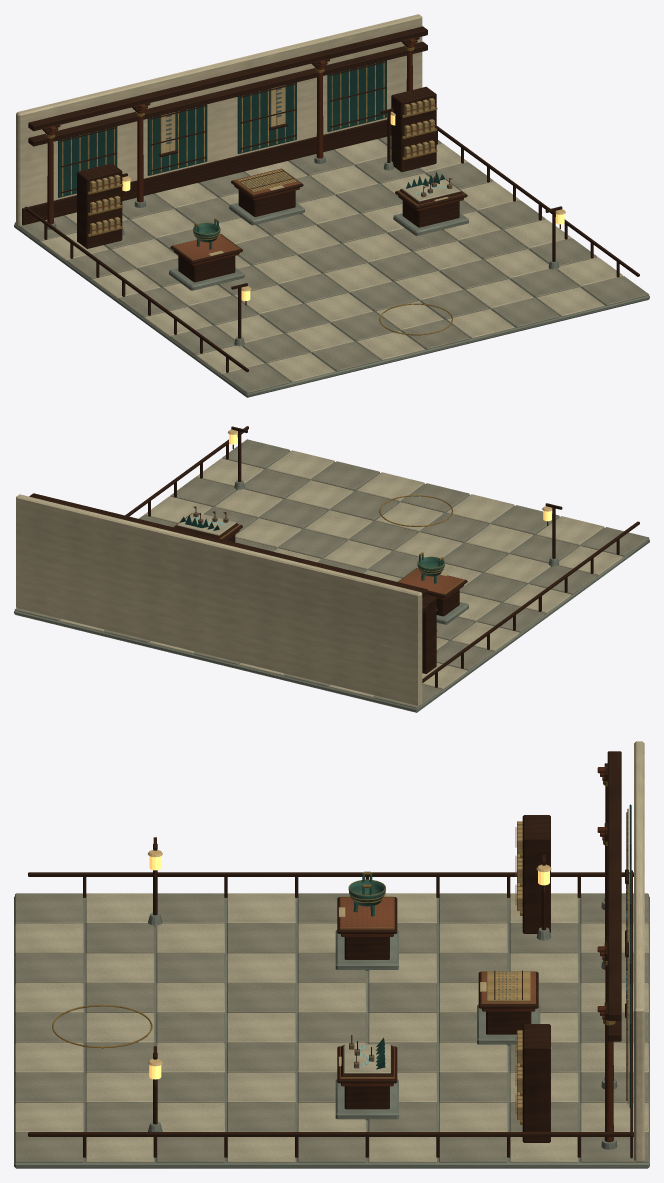
File: spring-interior.glb
The picture shows the model from 3 angles, top to bottom: view 1: azimuth 30°, elevation 25°; view 2: azimuth 150°, elevation 25°; view 3: azimuth 270°, elevation 25°; orthographic projection. The views are drawn at different scales.
Visible parts, largest first — view 1: Batched_Paving, Batched_PavingLight, Batched_Wood, Batched_Plaster, Batched_Jade, Batched_Stone, Batched_Bamboo, Batched_RedWood, Batched_Silk, Batched_Ivory, Batched_BronzeEdge, Artifact_Map_PavingLight; view 2: Batched_Plaster, Batched_Paving, Batched_PavingLight, Batched_Wood, Batched_Stone, Batched_Silk, Artifact_Map_PavingLight, Artifact_Ding_Bronze, Batched_BronzeEdge; view 3: Batched_Paving, Batched_PavingLight, Batched_Wood, Batched_Stone, Batched_Plaster, Batched_RedWood, Batched_Silk, Batched_Bamboo, Batched_BronzeEdge, Artifact_Map_PavingLight, Batched_Jade, Artifact_Ding_Bronze.
Part boxes in pixels (<box>): Batched_Paving: <box>14,136,649,393</box>; Batched_PavingLight: <box>40,139,623,382</box>; Batched_Wood: <box>22,26,639,372</box>; Batched_Plaster: <box>16,14,422,225</box>; Batched_Jade: <box>58,60,386,197</box>; Batched_Stone: <box>14,139,649,397</box>; Batched_Bamboo: <box>62,61,434,234</box>; Batched_RedWood: <box>47,38,560,305</box>; Batched_Silk: <box>92,104,464,260</box>; Batched_Ivory: <box>161,85,448,256</box>; Batched_BronzeEdge: <box>46,46,464,335</box>; Artifact_Map_PavingLight: <box>402,179,460,201</box>; Batched_Plaster: <box>16,494,422,706</box>; Batched_Paving: <box>14,439,649,708</box>; Batched_PavingLight: <box>59,450,623,697</box>; Batched_Wood: <box>29,426,639,687</box>; Batched_Stone: <box>14,451,649,712</box>; Batched_Silk: <box>221,525,464,594</box>; Artifact_Map_PavingLight: <box>177,512,235,535</box>; Artifact_Ding_Bronze: <box>417,554,444,583</box>; Batched_BronzeEdge: <box>174,495,464,652</box>; Batched_Paving: <box>15,893,648,1162</box>; Batched_PavingLight: <box>15,893,648,1162</box>; Batched_Wood: <box>28,751,633,1158</box>; Batched_Stone: <box>14,896,649,1168</box>; Batched_Plaster: <box>634,741,644,1161</box>; Batched_RedWood: <box>154,767,613,1142</box>; Batched_Silk: <box>340,827,535,1113</box>; Batched_Bamboo: <box>517,808,628,1119</box>; Batched_BronzeEdge: <box>52,781,615,1124</box>; Artifact_Map_PavingLight: <box>343,1044,390,1073</box>; Batched_Jade: <box>629,804,631,1108</box>; Artifact_Ding_Bronze: <box>348,872,385,916</box>.
Size of the model in its own units: 18 by 5 by 18.
Materials: 17 (13 with a texture image).
